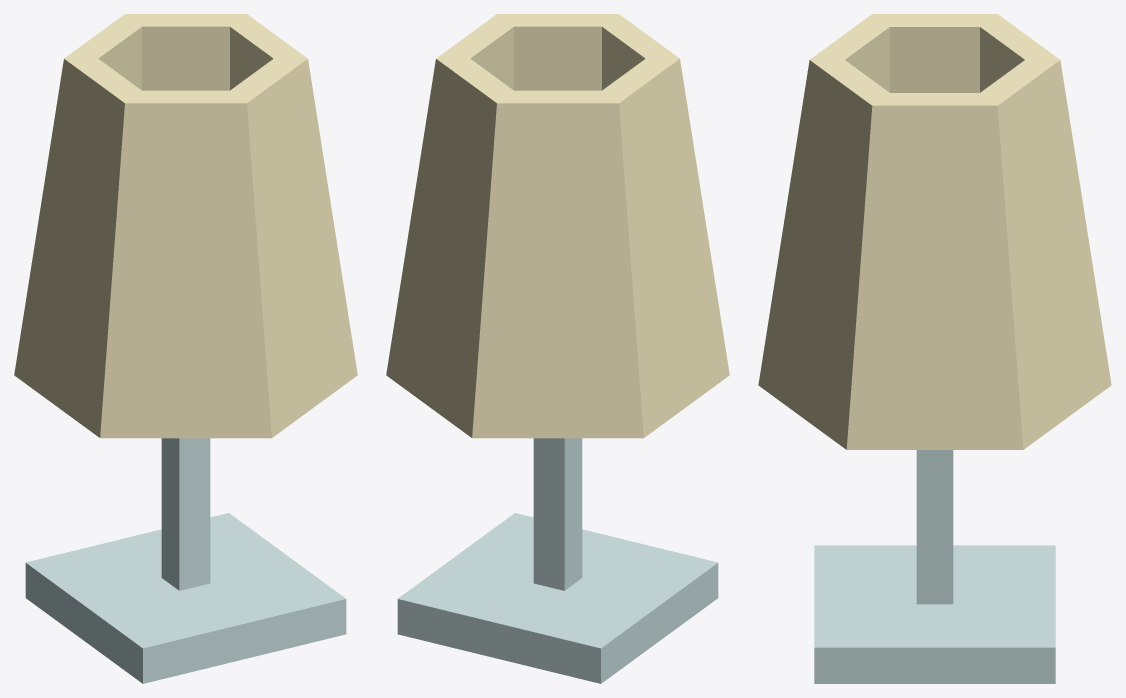
Rendered from lampRoundTable.glb.
3 views of the same model, side by side, from view 1: azimuth 30°, elevation 25°; view 2: azimuth 150°, elevation 25°; view 3: azimuth 270°, elevation 25° (orthographic). The views are drawn at different scales.
Parts seen in each view (by area): view 1: lampRoundTable; view 2: lampRoundTable; view 3: lampRoundTable.
Boxes of the visible parts, left/top/right/bottom form: lampRoundTable: left=14, top=14, right=357, bottom=683; lampRoundTable: left=386, top=14, right=729, bottom=683; lampRoundTable: left=758, top=14, right=1111, bottom=683.
Bounding box in the file's own units: 1.52 × 3.14 × 1.76.
